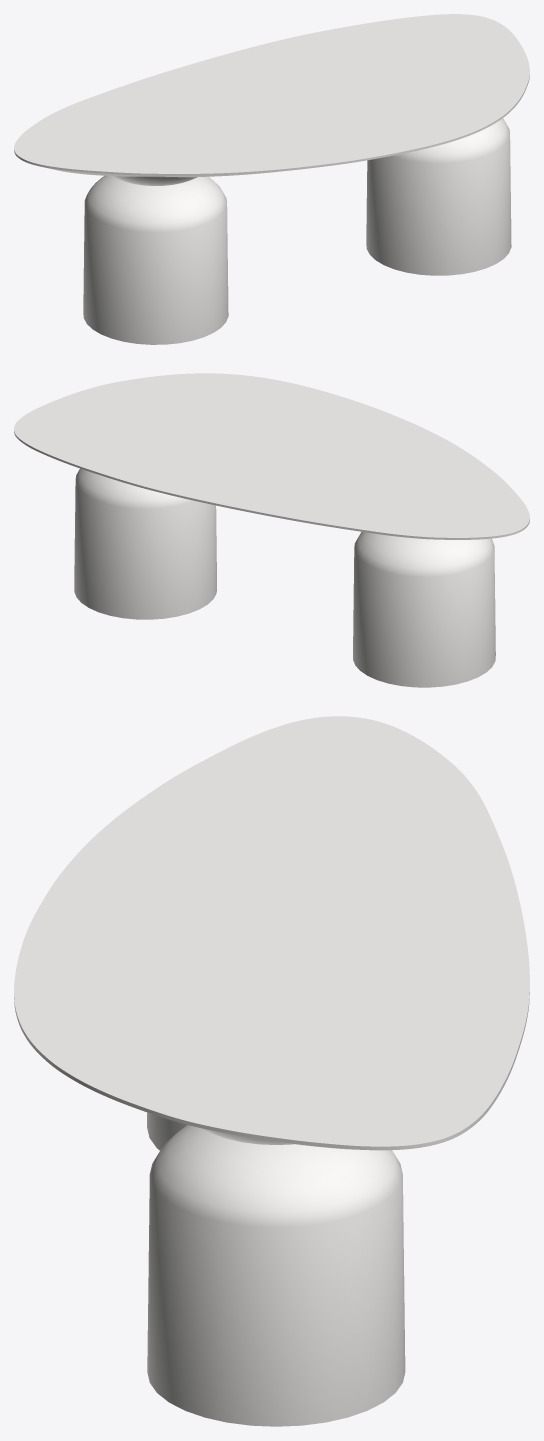
File: purewhite_pebbletop_facet_tornado.glb
3 renders of one model, top to bottom at view 1: azimuth 30°, elevation 25°; view 2: azimuth 150°, elevation 25°; view 3: azimuth 270°, elevation 25°, orthographic. The views are drawn at different scales.
Visible parts, largest first — view 1: facet_pebbletop, tornado; view 2: facet_pebbletop, tornado; view 3: facet_pebbletop, tornado.
Part boxes in pixels (x1,y1,x2,y2): facet_pebbletop: [14, 14, 529, 177]; tornado: [83, 118, 511, 344]; facet_pebbletop: [14, 373, 529, 539]; tornado: [74, 468, 495, 687]; facet_pebbletop: [14, 716, 529, 1150]; tornado: [147, 1112, 405, 1426].
Size of the model in its own units: 7.5 by 2.5 by 3.8.
Materials: 1 (1 with a texture image).
